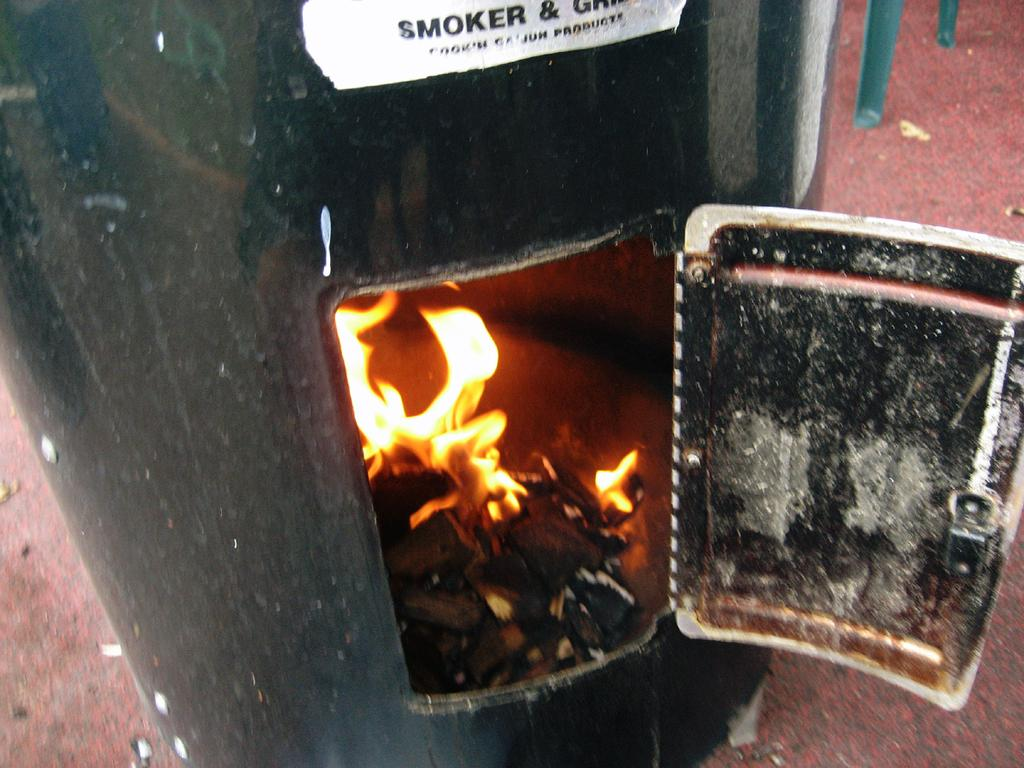Fire: (336, 269, 650, 537)
